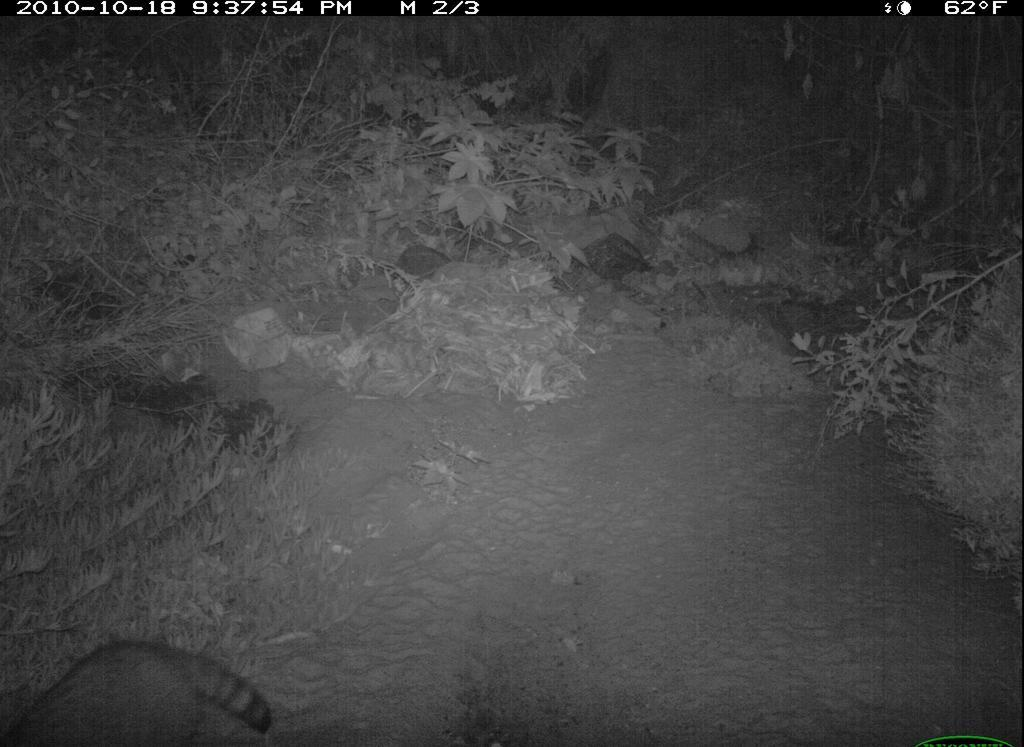raccoon: (7, 620, 285, 745)
